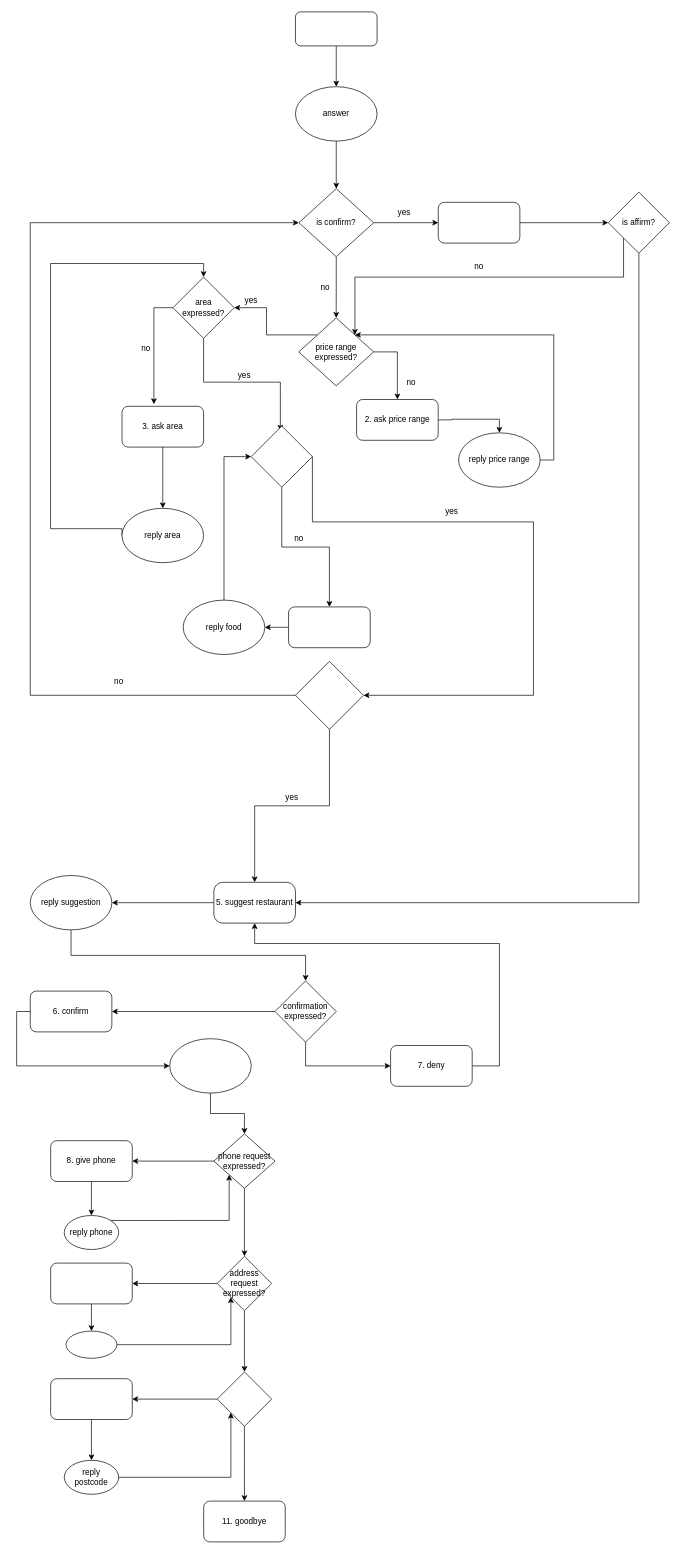
Image size: 681x1554. Some labels were removed from this diagram. The box of each missing label's shape, as (x1, y1, x2, y2) in pixels:
1. welcome: (295, 11, 377, 46)
10. give postcode: (50, 1378, 132, 1420)
13. ask confirmation: (438, 202, 520, 243)
4. ask food: (288, 606, 370, 648)
9. give address: (50, 1262, 132, 1304)
combo exists?: (295, 661, 363, 729)
food expressed?: (251, 425, 312, 487)
postcode request expressed?: (217, 1371, 272, 1426)
reply address: (65, 1330, 117, 1358)
reply confirmation: (169, 1038, 251, 1093)
